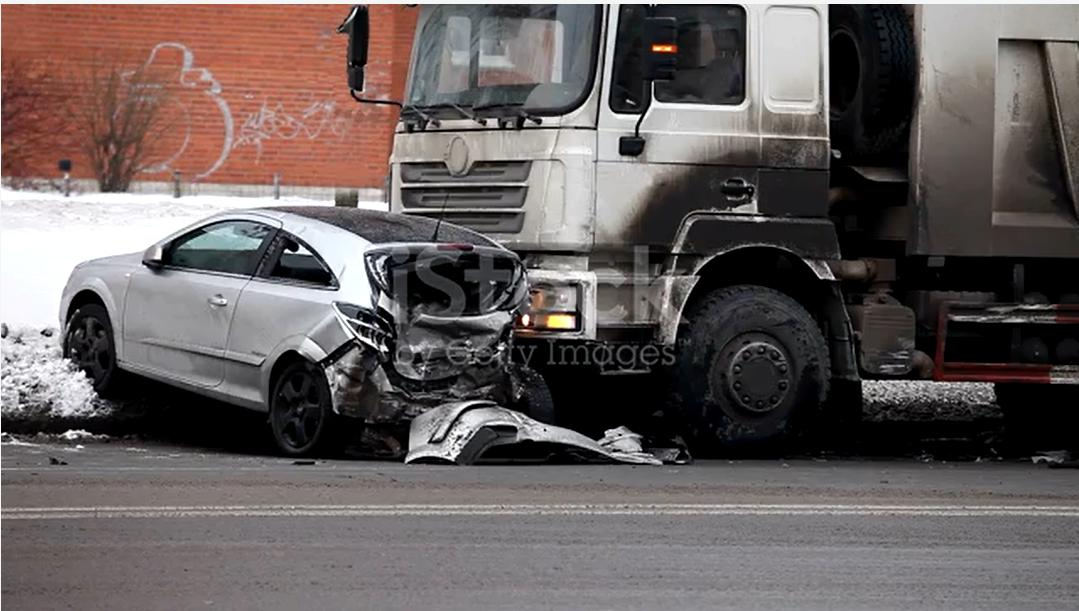car: (23, 201, 579, 478)
truck: (331, 8, 1079, 470)
